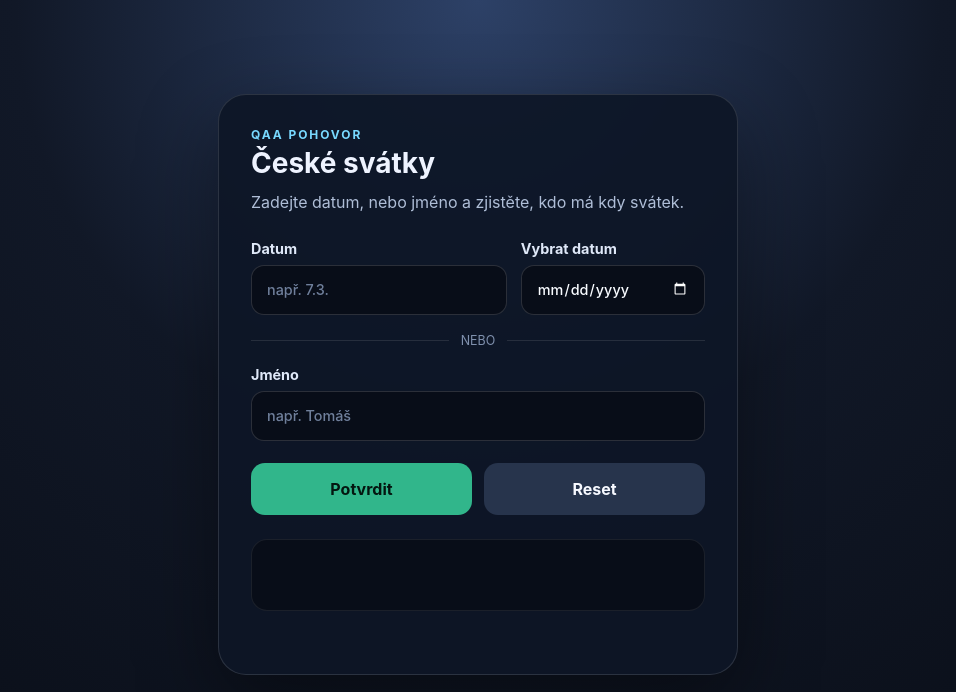
Test case: NamedayForm component › Date validation › shows the missing-query message when submitted with no date and no name
The image size is (956, 692).
Click the button with test id "confirm": (362, 489) x1=251 y1=463 x2=472 y2=515
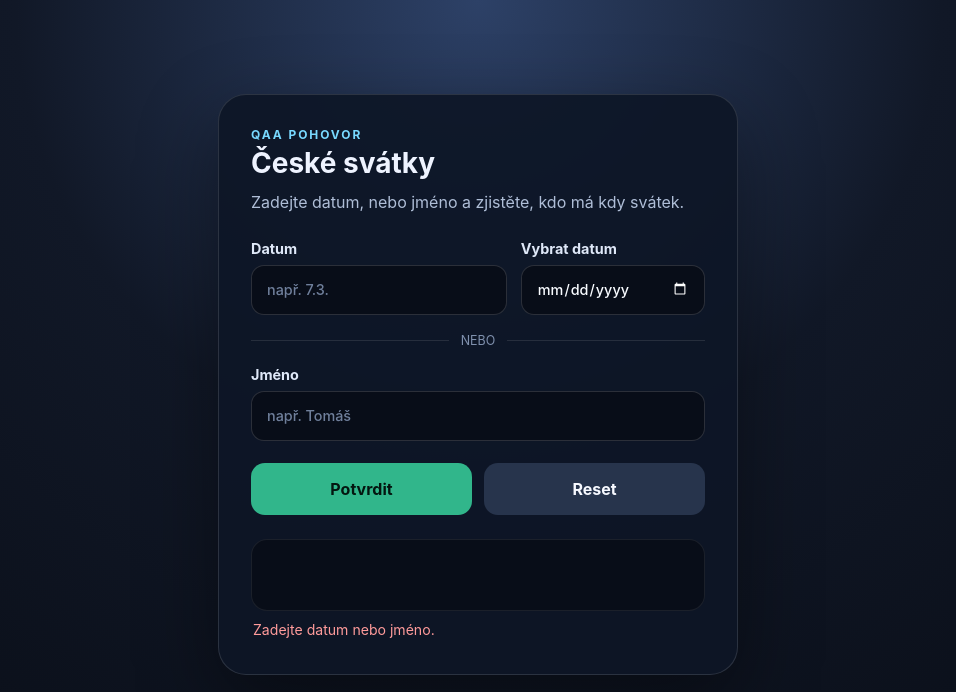
Now the text "Zadejte datum nebo jméno." is shown, box x1=253 y1=620 x2=435 y2=638
